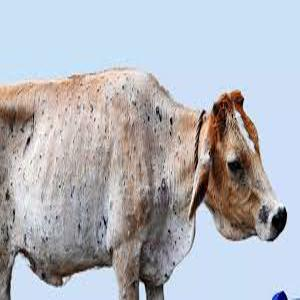lumpy skin diesease: (0, 65, 288, 299)
